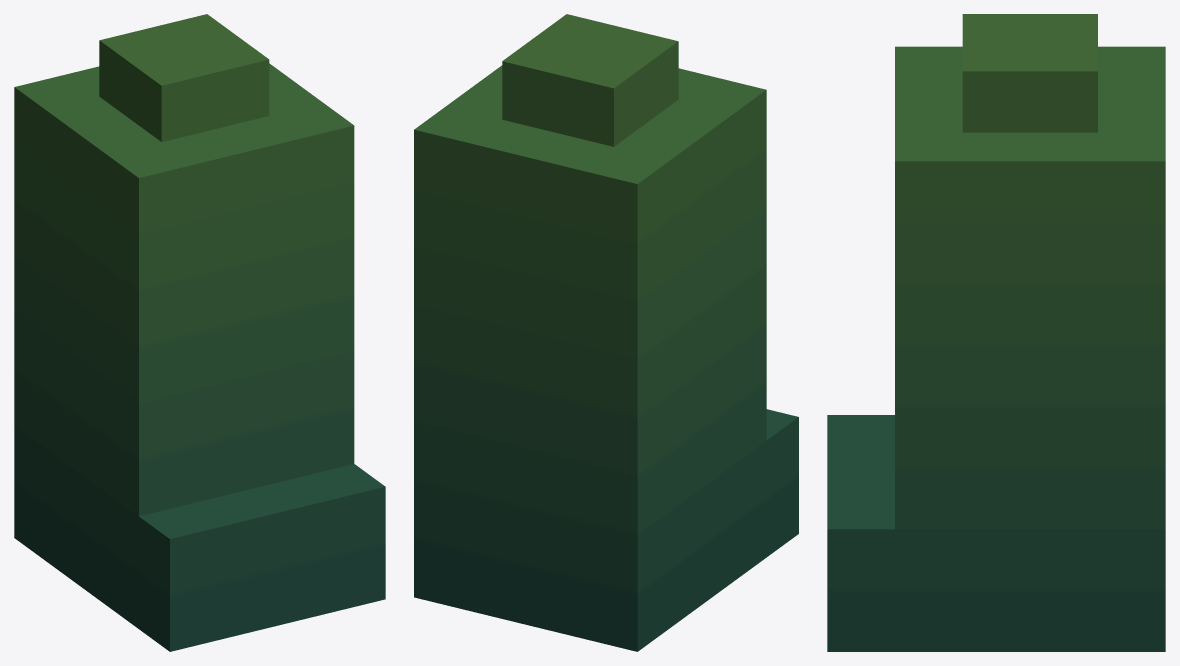
The model's file is Knee077.fbx.
3 views of the same model, side by side, from view 1: azimuth 30°, elevation 25°; view 2: azimuth 150°, elevation 25°; view 3: azimuth 270°, elevation 25° (orthographic). The views are drawn at different scales.
Visible parts, largest first — view 1: Knee077; view 2: Knee077; view 3: Knee077.
Part boxes in pixels (bbox=[...]): Knee077: bbox=[14, 14, 385, 651]; Knee077: bbox=[414, 14, 798, 651]; Knee077: bbox=[827, 14, 1165, 651].
Size of the model in its own units: 4 by 9 by 5.
